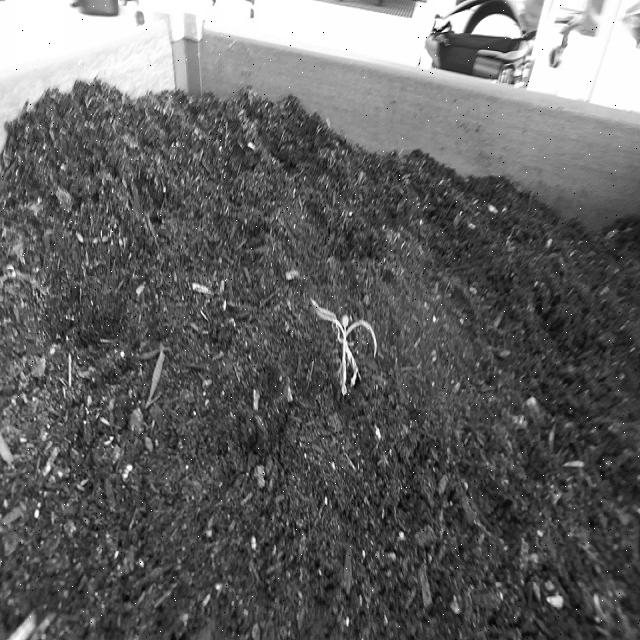Unhealthy: (303, 286, 385, 408)
